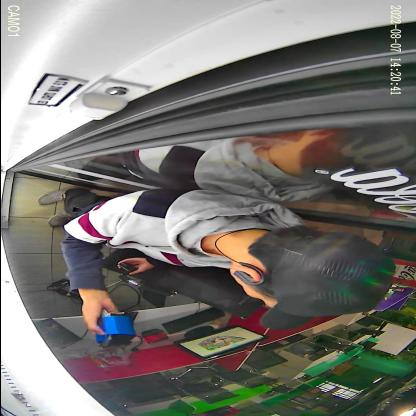blue: (94, 315, 134, 348)
